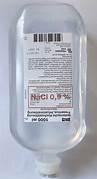Iv_Bottle: (9, 3, 86, 175)
